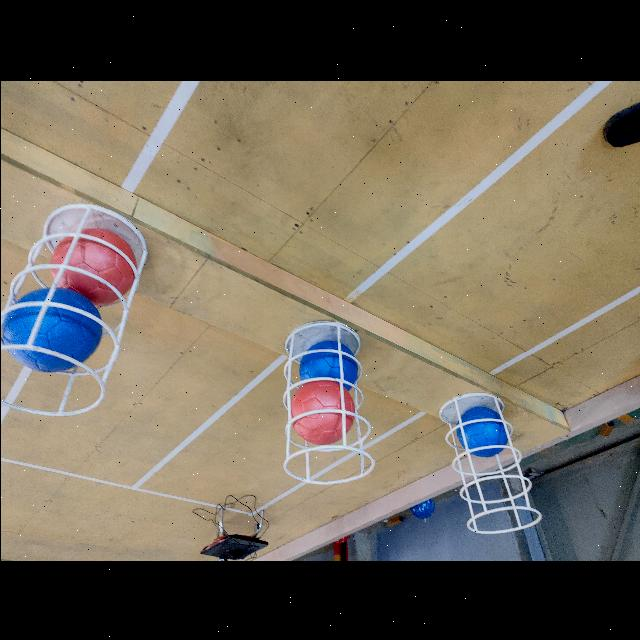B: (0, 288, 101, 370), (456, 404, 510, 460), (296, 341, 359, 384)
R: (47, 226, 136, 288), (288, 382, 354, 442)
